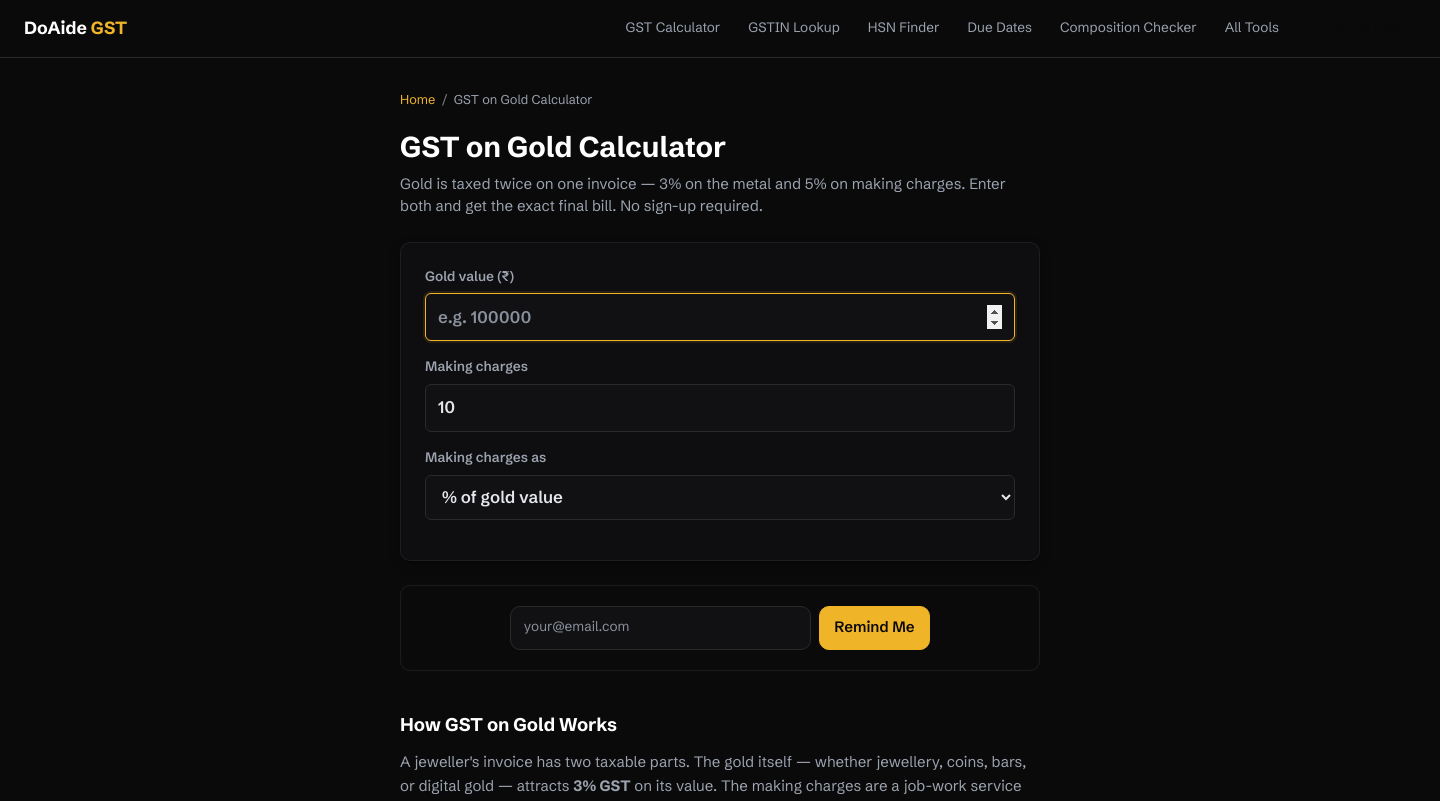
Test: GstOnGoldPage › drops the making-charge GST to zero when making charges are cleared
Step 1. Type "100000" into the number field with placeholder "e.g. 100000" → (720, 317), box [425,293,1015,341]
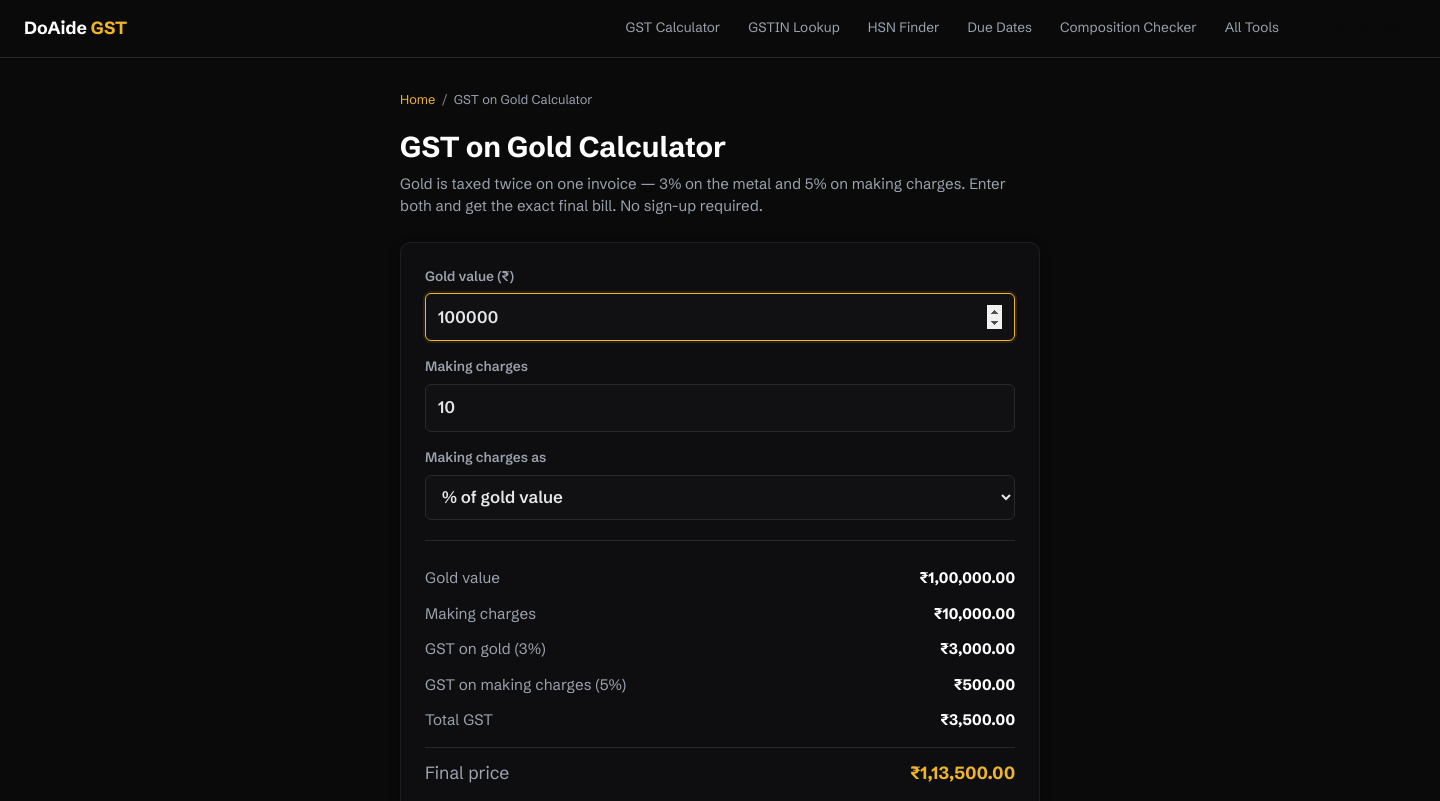
Step 2. Clear the number field with placeholder "e.g. 10" → (720, 408), box [425,384,1015,432]
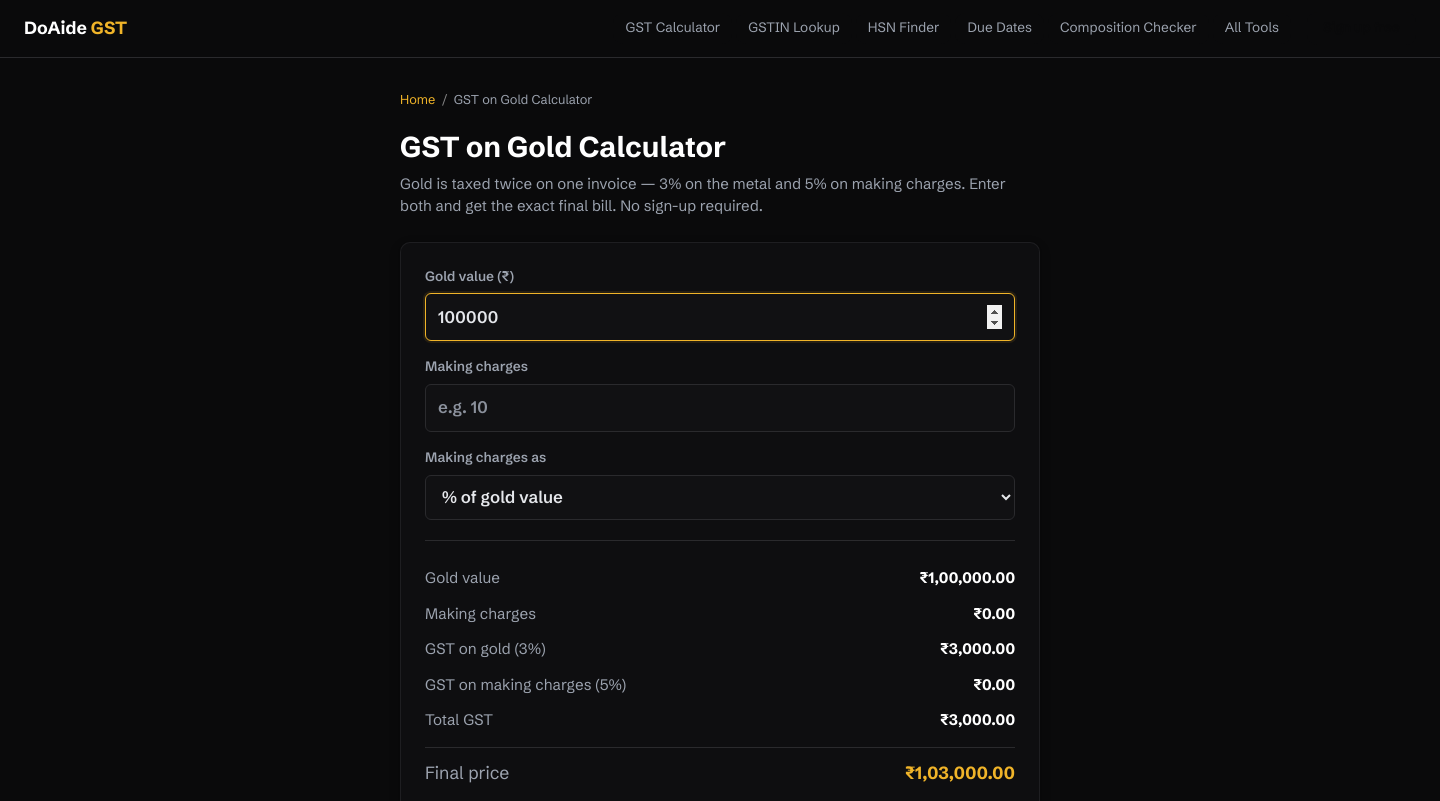
Check: the text "₹0.00" is shown 2 times, box [974,603,1015,625]; [974,674,1015,696]
Check: the text "₹1,03,000.00" is shown, box [905,760,1015,786]
